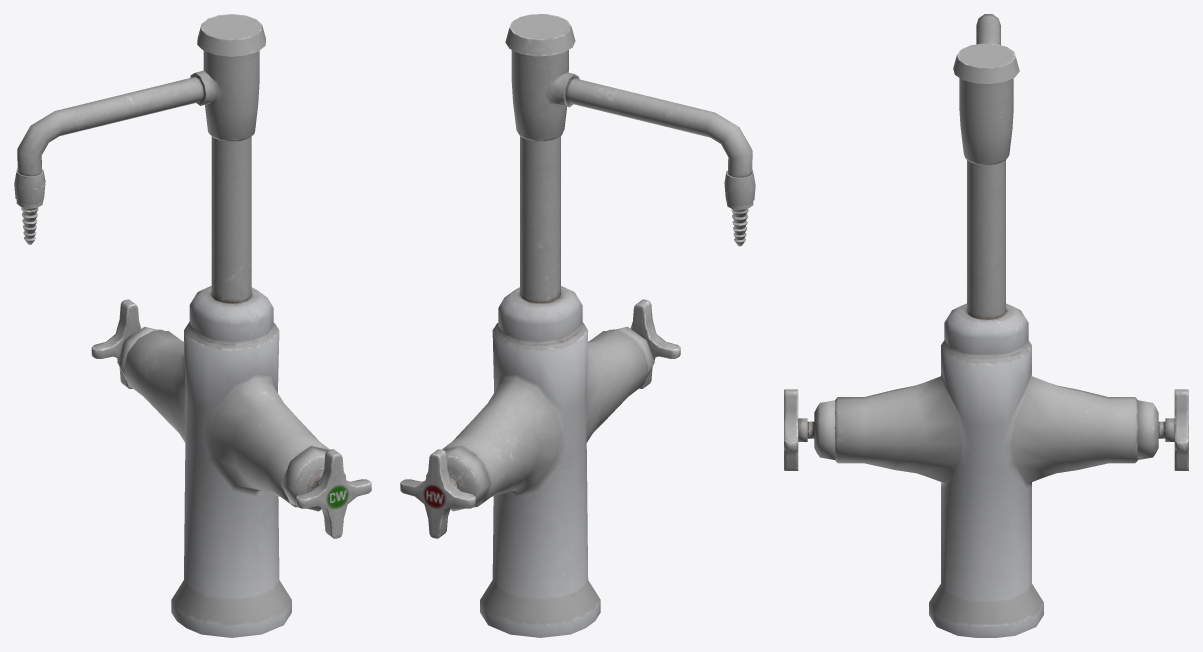
Rendered from sinkFaucet.glb.
3 renders of one model, left to right at view 1: azimuth 30°, elevation 25°; view 2: azimuth 150°, elevation 25°; view 3: azimuth 270°, elevation 25°, orthographic. The views are drawn at different scales.
Parts seen in each view (by area): view 1: FaucetBase_LP, Turnables_LP, WaterControl_LP; view 2: FaucetBase_LP, Turnables_LP, WaterControl_LP; view 3: FaucetBase_LP, WaterControl_LP, Turnables_LP.
Boxes of the visible parts, x1=… form: FaucetBase_LP: x1=14, y1=14, x2=329, y2=637; Turnables_LP: x1=91, y1=299, x2=371, y2=538; WaterControl_LP: x1=117, y1=326, x2=345, y2=511; FaucetBase_LP: x1=442, y1=14, x2=755, y2=637; Turnables_LP: x1=400, y1=299, x2=680, y2=538; WaterControl_LP: x1=426, y1=326, x2=654, y2=511; FaucetBase_LP: x1=834, y1=14, x2=1138, y2=637; WaterControl_LP: x1=798, y1=400, x2=1174, y2=459; Turnables_LP: x1=784, y1=389, x2=1188, y2=470.
Bounding box in the file's own units: 0.2132 × 0.4525 × 0.297.
Materials: 1 (1 with a texture image).
